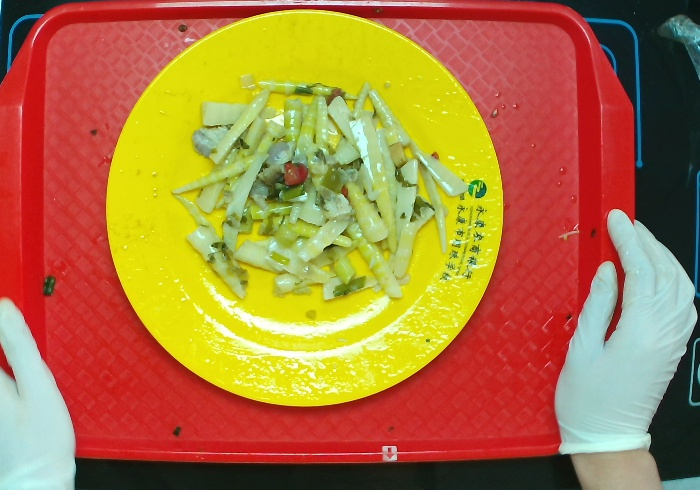YKMZ-Huang_Se_Mian_Pan: (107, 6, 510, 406)
